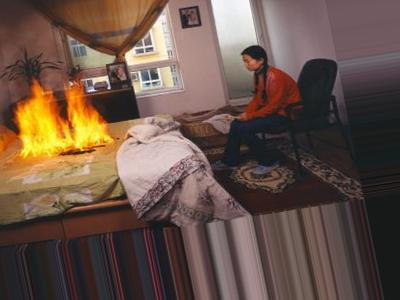fire: (6, 76, 112, 161)
